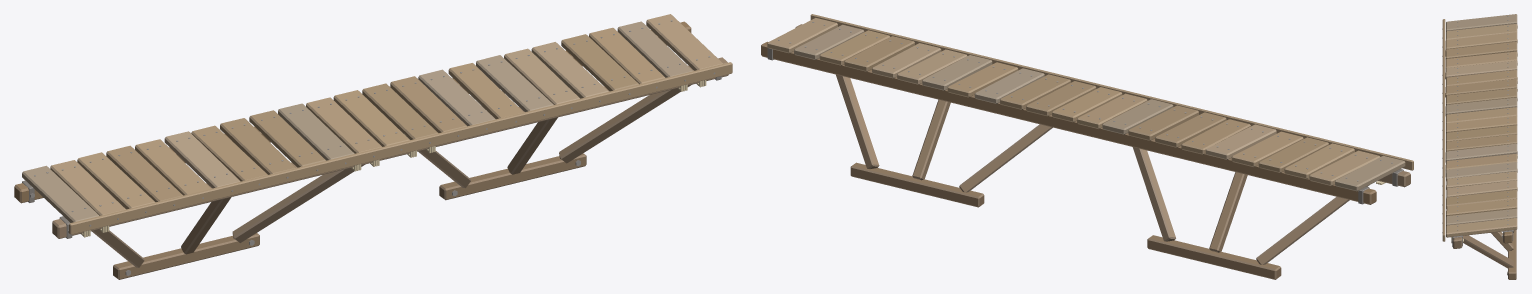
File: platform_braced_700.glb
The picture shows the model from 3 angles, left to right: view 1: azimuth 30°, elevation 25°; view 2: azimuth 150°, elevation 25°; view 3: azimuth 270°, elevation 25°; orthographic projection. The views are drawn at different scales.
Visible parts, largest first — view 1: Wood, Iron, Rope; view 2: Wood, Iron; view 3: Wood, Iron.
Part boxes in pixels (x1,y1,x2,y2): Wood: (14,14,732,279); Iron: (22,20,721,275); Rope: (81,80,706,237); Wood: (761,14,1413,279); Iron: (767,22,1403,204); Wood: (1442,14,1517,279); Iron: (1442,16,1513,275).
Bounding box in the file's own units: 7.2 × 1.3 × 1.04.
